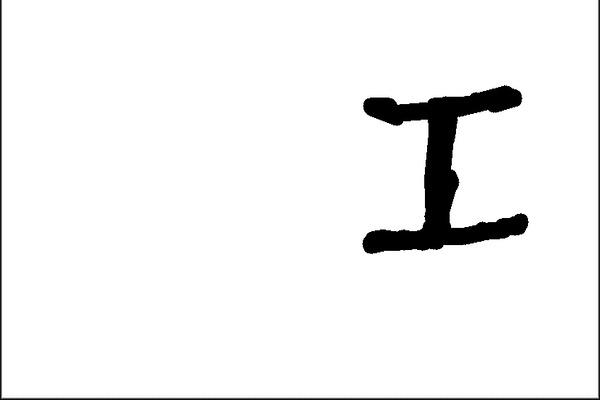i: (351, 76, 548, 257)
